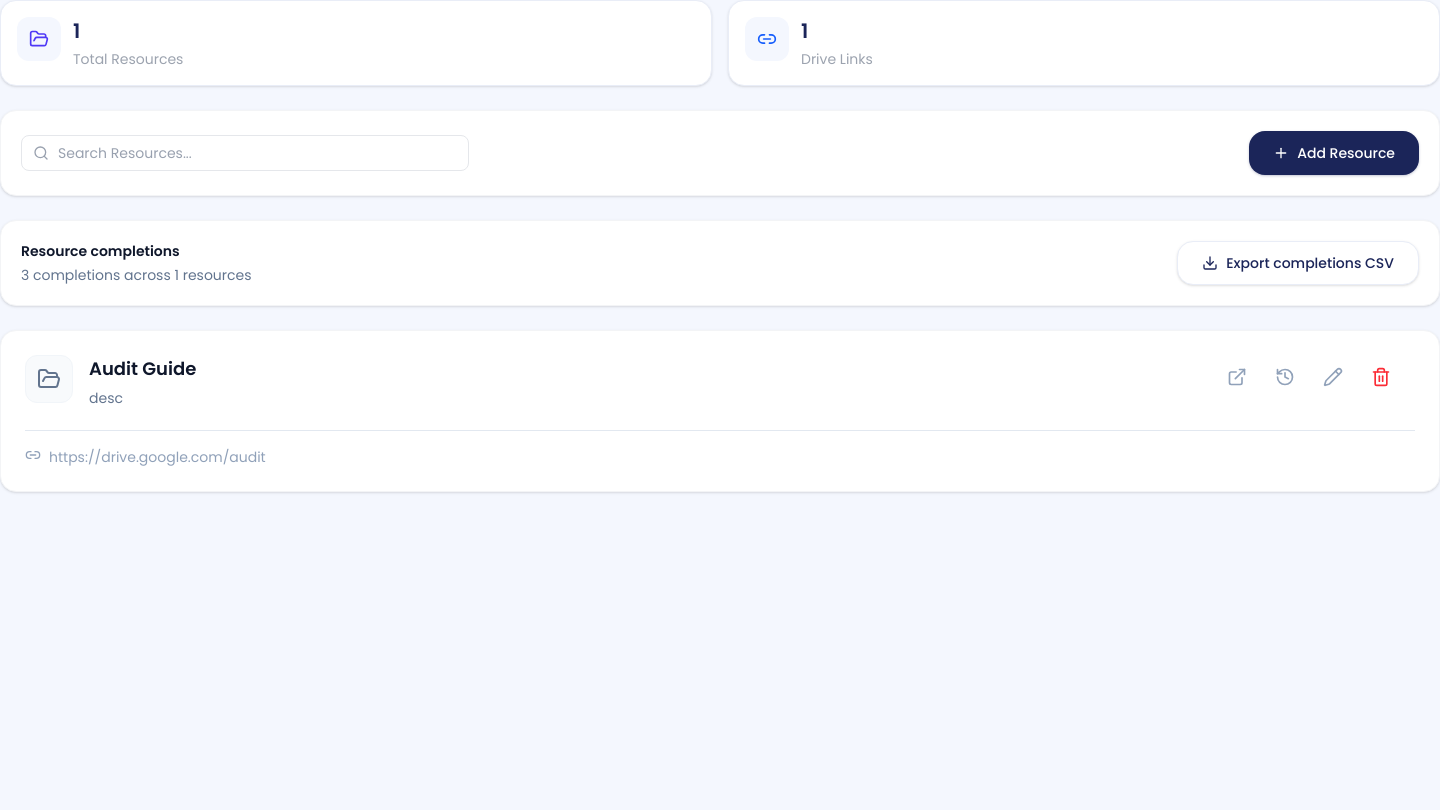
ResourcesClient › renders a category picker populated from resource_categories
Expected: the heading "Audit Guide" is shown, [89, 355, 196, 383]
Click the button named "Edit Audit Guide": (1345, 377) [1323, 355, 1367, 399]
(page scrolled)
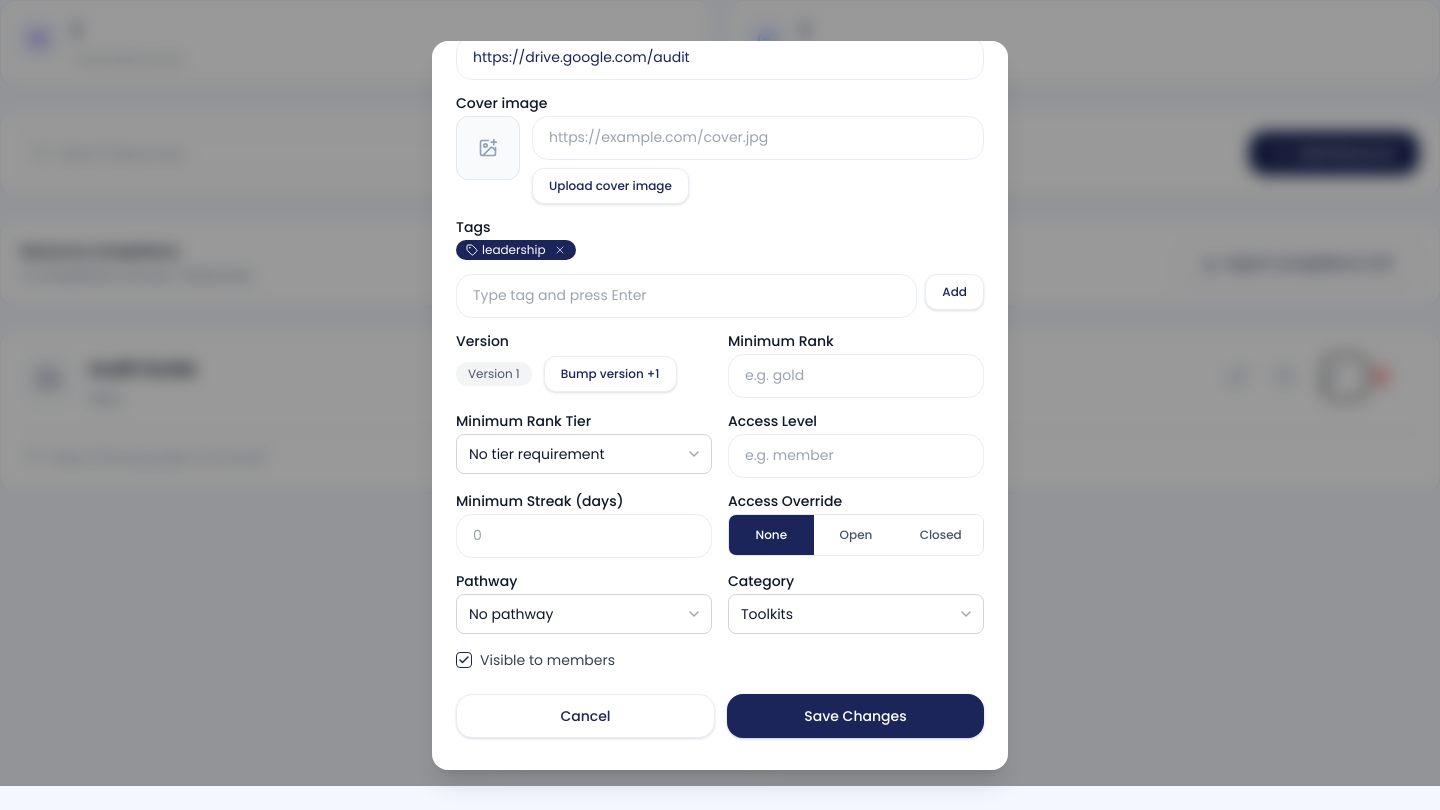
Now the dropdown named "Category" is shown, box [728, 594, 984, 634]
